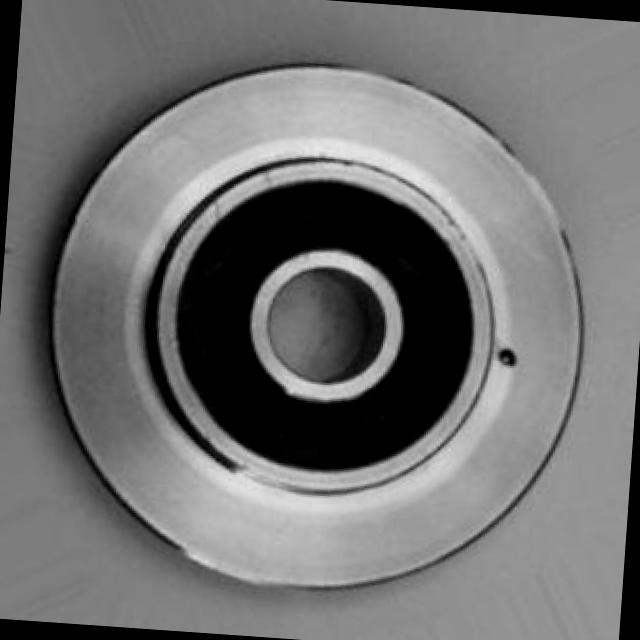Defect: (498, 344, 524, 382)
